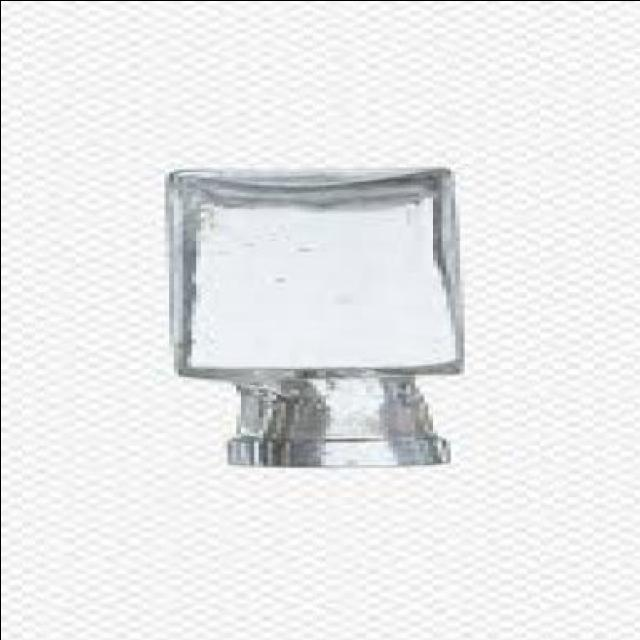kaca: (165, 168, 472, 437)
